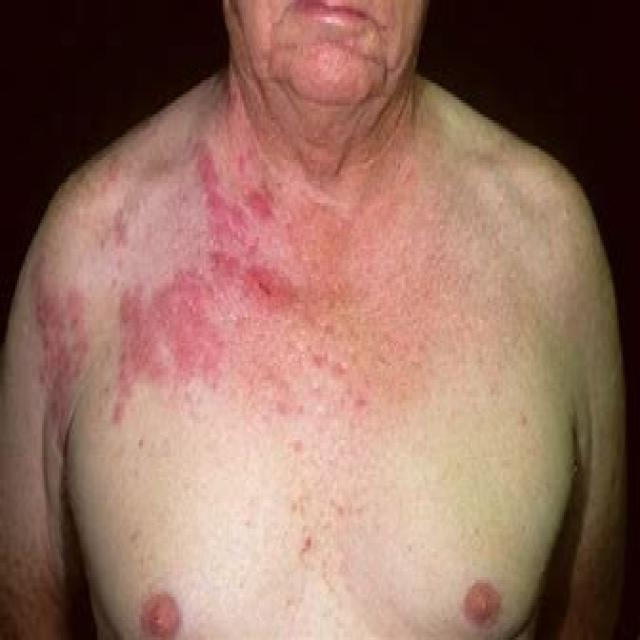Shingles: (106, 138, 288, 424), (29, 252, 89, 438)
